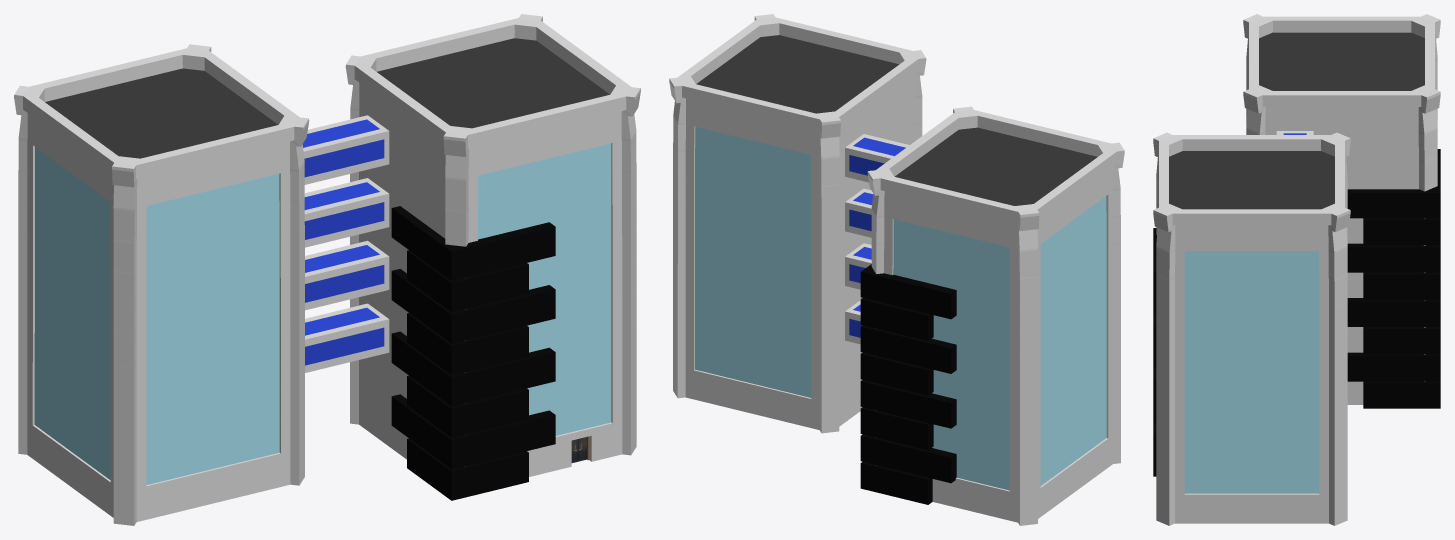
Rendered from skyrise_double.fbx.
3 views of the same model, side by side, from view 1: azimuth 30°, elevation 25°; view 2: azimuth 150°, elevation 25°; view 3: azimuth 270°, elevation 25° (orthographic). The views are drawn at different scales.
Parts seen in each view (by area): view 1: skyrise_double; view 2: skyrise_double; view 3: skyrise_double.
Boxes of the visible parts, <box> form: skyrise_double: <box>14,14,640,525</box>; skyrise_double: <box>669,14,1124,525</box>; skyrise_double: <box>1153,14,1440,525</box>.
Size of the model in its own units: 4773 by 3431 by 2873.
